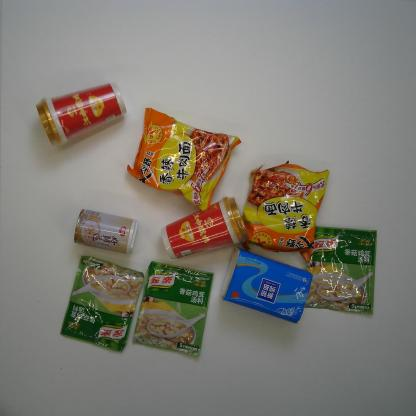Canned Food: (71, 208, 139, 253)
Instant Drink: (34, 77, 128, 148), (158, 194, 254, 263)
Instant Noodles: (124, 106, 243, 214), (238, 158, 332, 265)
Seasoner: (57, 254, 146, 354), (130, 260, 213, 359), (297, 222, 380, 318)
Tissue: (219, 246, 314, 323)
